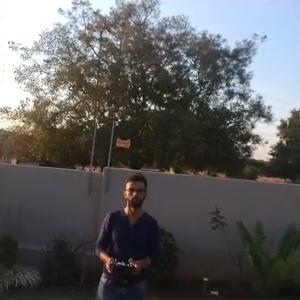follow: (87, 170, 165, 299)
